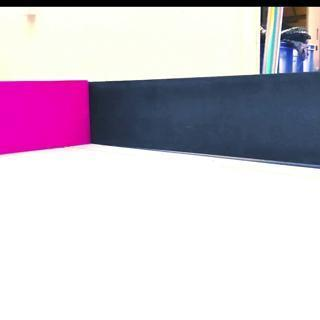xparking: (0, 84, 87, 144)
